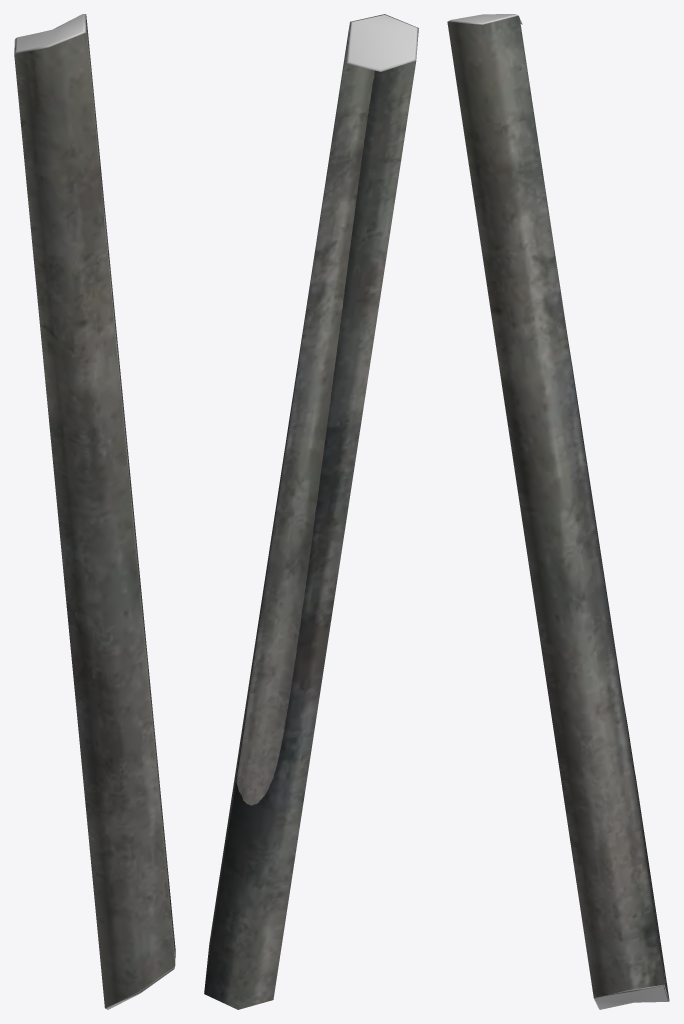
The picture shows the model from 3 angles, left to right: view 1: azimuth 30°, elevation 25°; view 2: azimuth 150°, elevation 25°; view 3: azimuth 330°, elevation 25°; orthographic projection. The views are drawn at different scales.
Parts seen in each view (by area): view 1: SM_SaradominTemple_Statue_01v12_LOD0; view 2: SM_SaradominTemple_Statue_01v12_LOD0; view 3: SM_SaradominTemple_Statue_01v12_LOD0.
Part boxes in pixels (x1,y1,x2,y2): SM_SaradominTemple_Statue_01v12_LOD0: [14, 14, 175, 1009]; SM_SaradominTemple_Statue_01v12_LOD0: [204, 14, 418, 1009]; SM_SaradominTemple_Statue_01v12_LOD0: [447, 14, 669, 1009].
Bounding box in the file's own units: 0.7515 × 3.88 × 0.4659.
